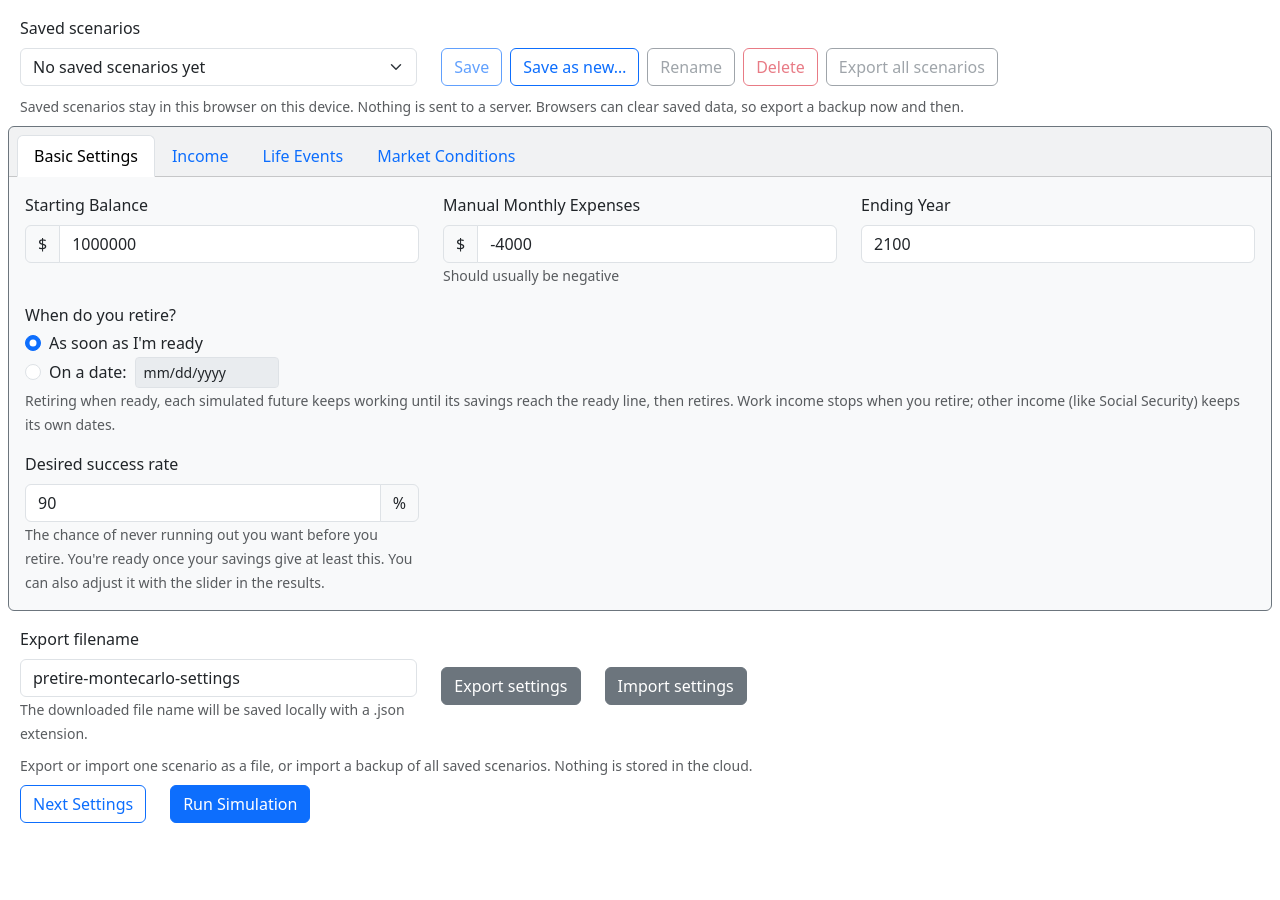
Test: MonteCarloForm saved scenarios › a save the browser refuses shows an error and leaves the list as it was
Click the button "Save as new…" at (575, 67), box [510,48,639,86]
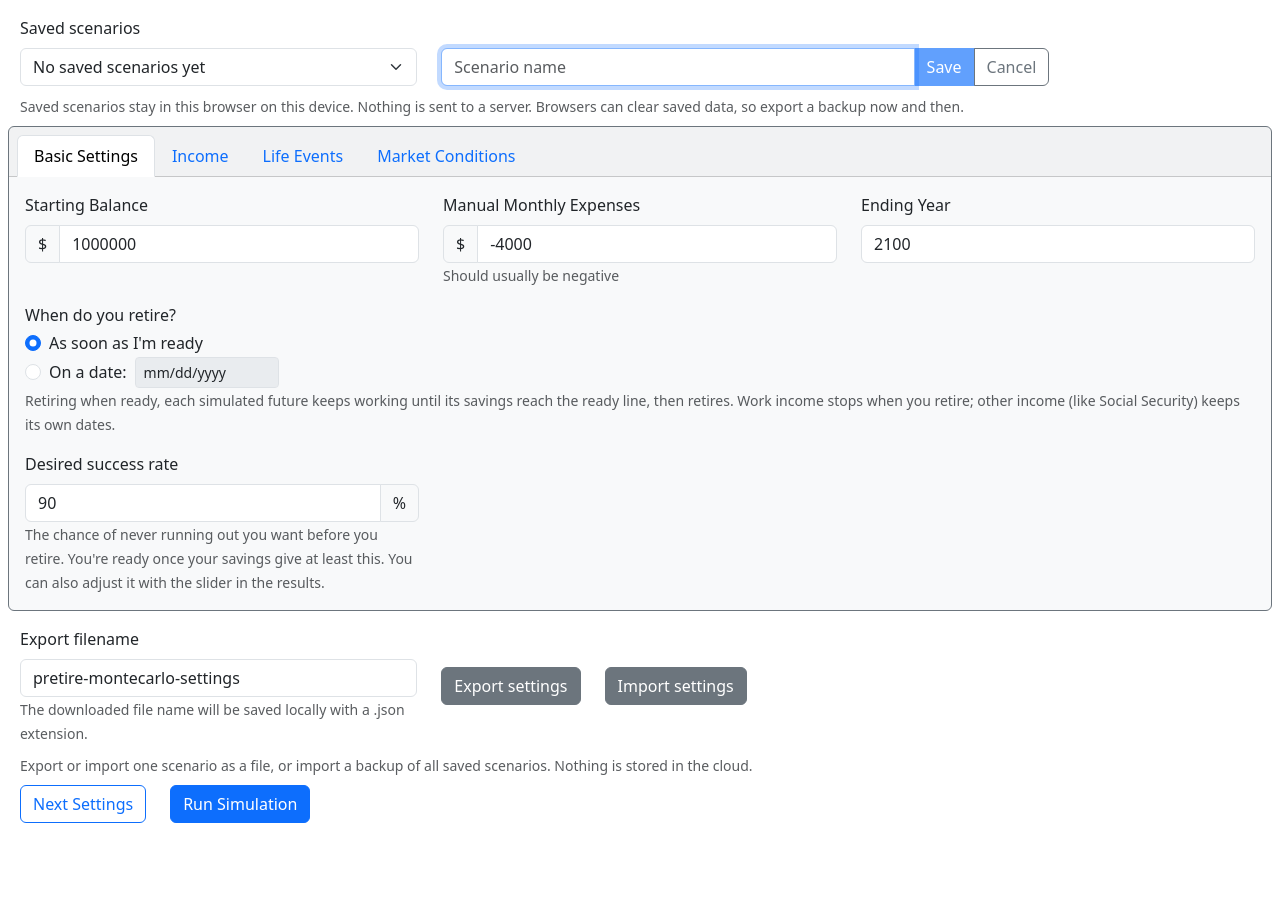
Type "Kept" into the field with placeholder "Scenario name" at (678, 67), box [441,48,915,86]
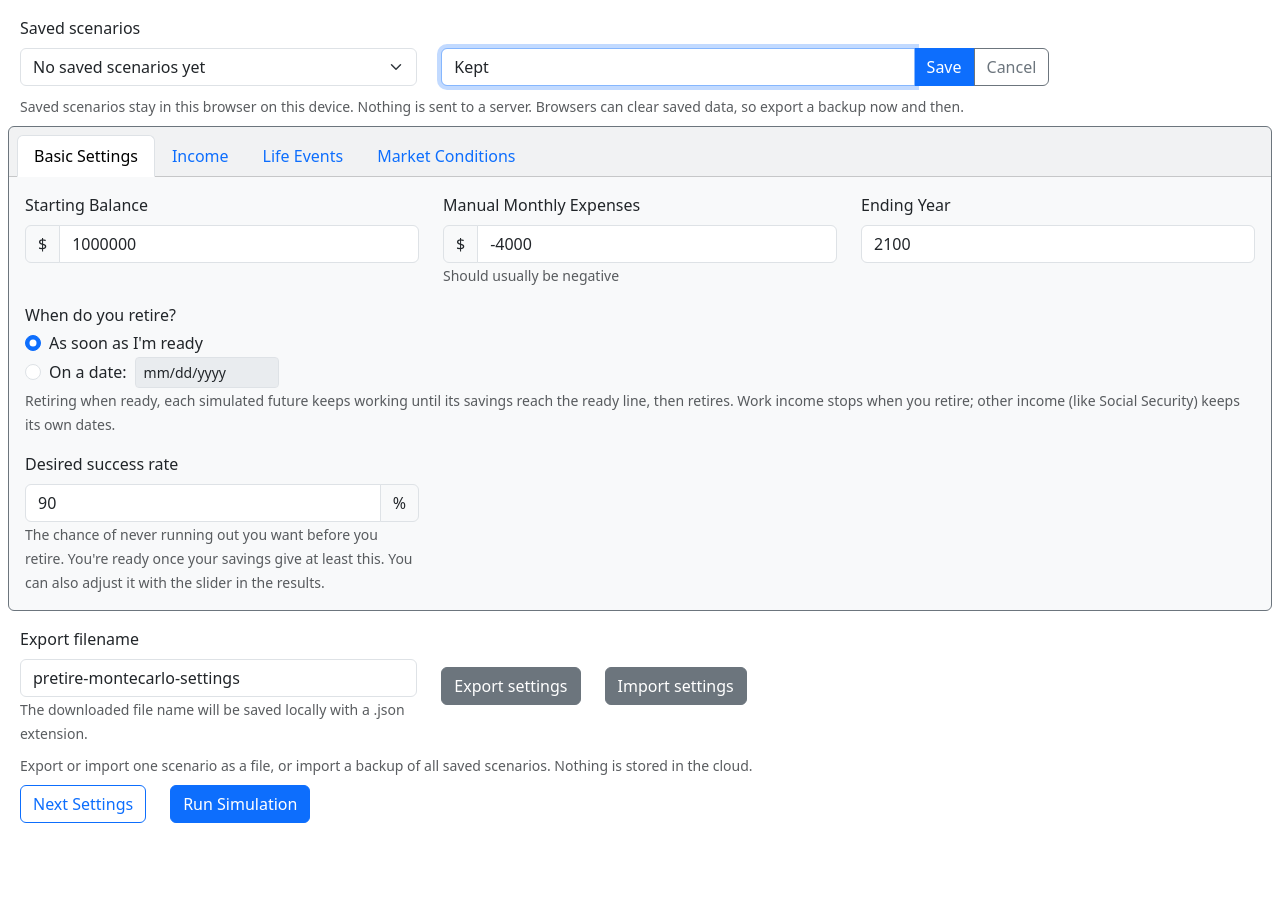
Click the button "Save" at (944, 67), box [914,48,974,86]
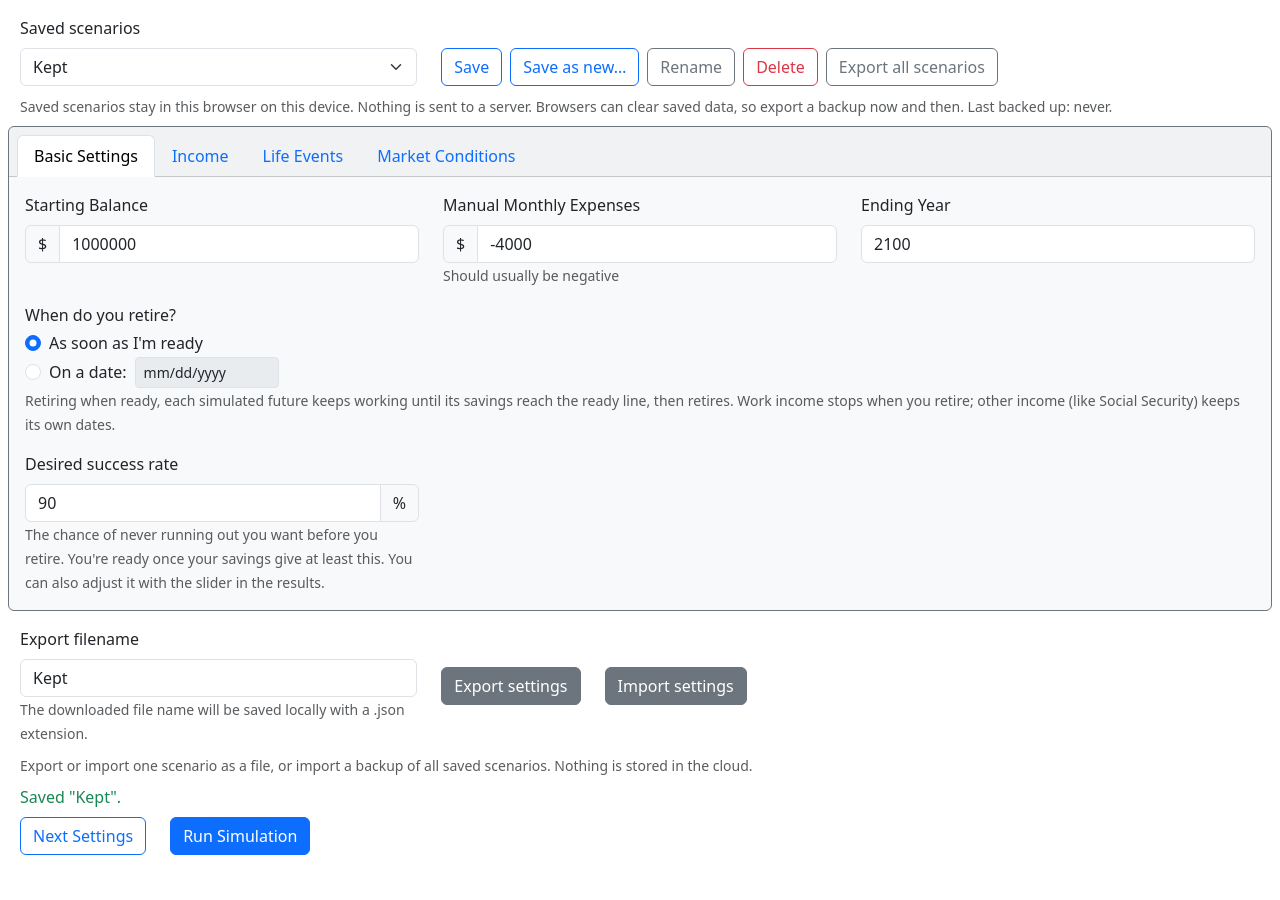
Click the button "Save as new…" at (575, 67), box [510,48,639,86]
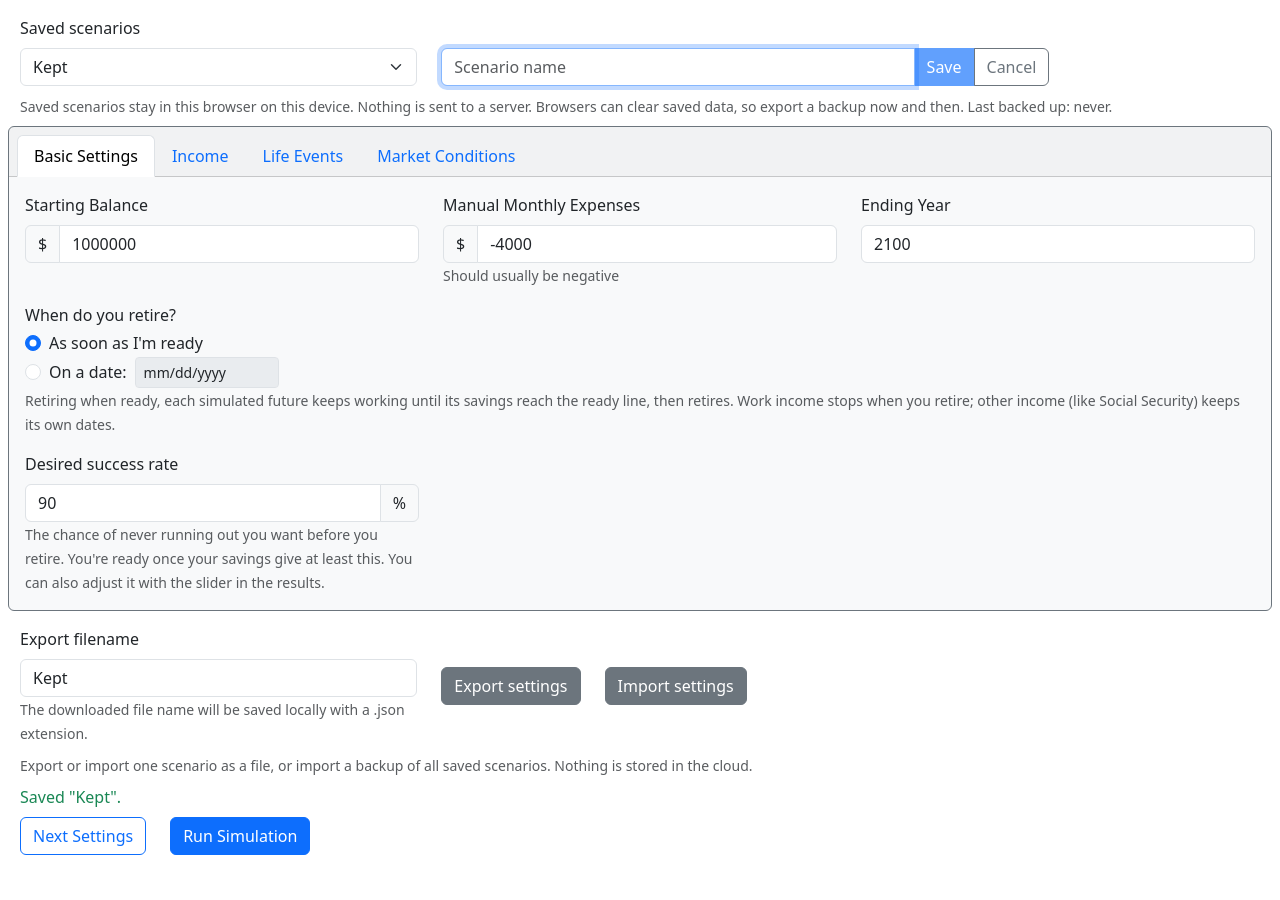
Type "Refused" into the field with placeholder "Scenario name" at (678, 67), box [441,48,915,86]
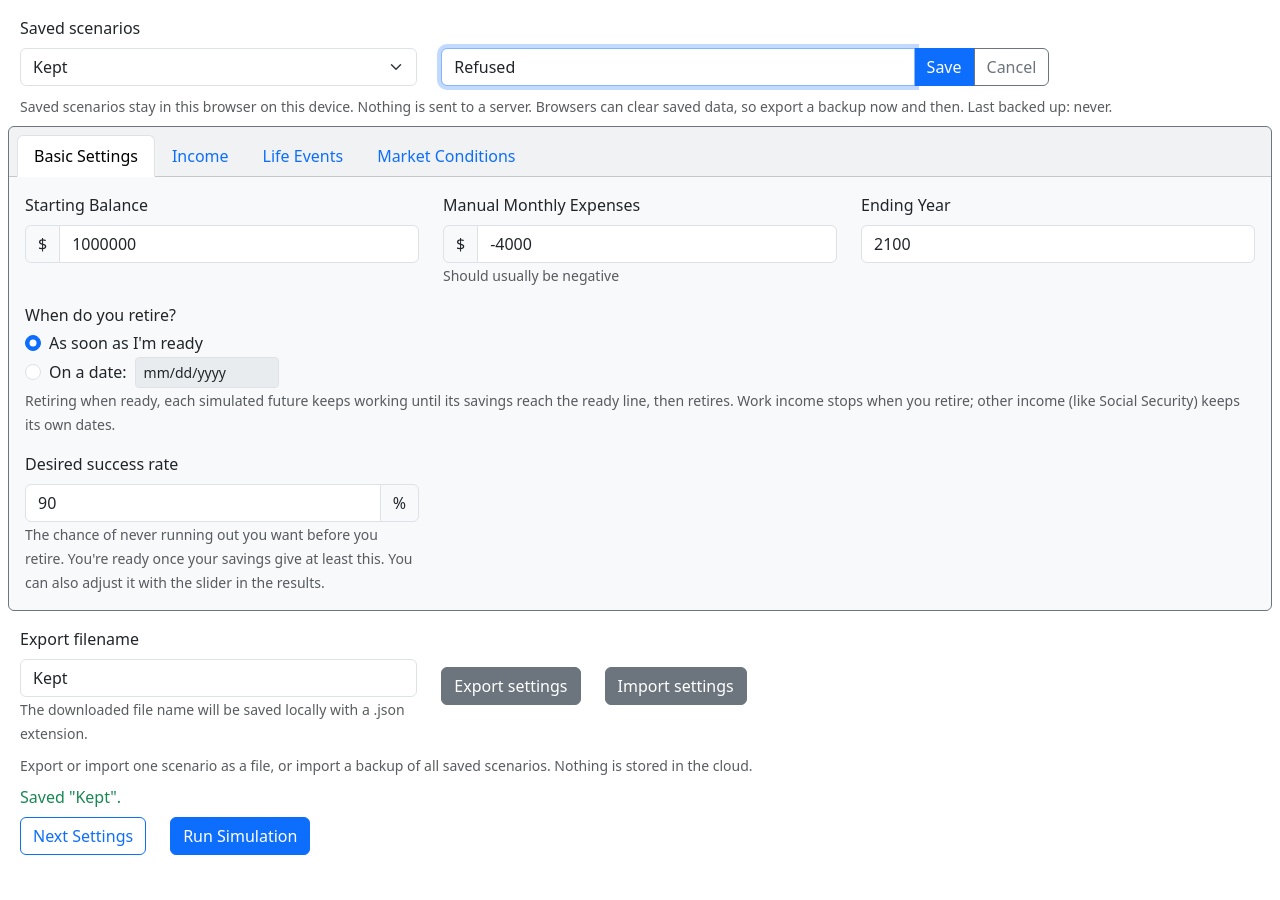
Click the button "Save" at (944, 67), box [914,48,974,86]
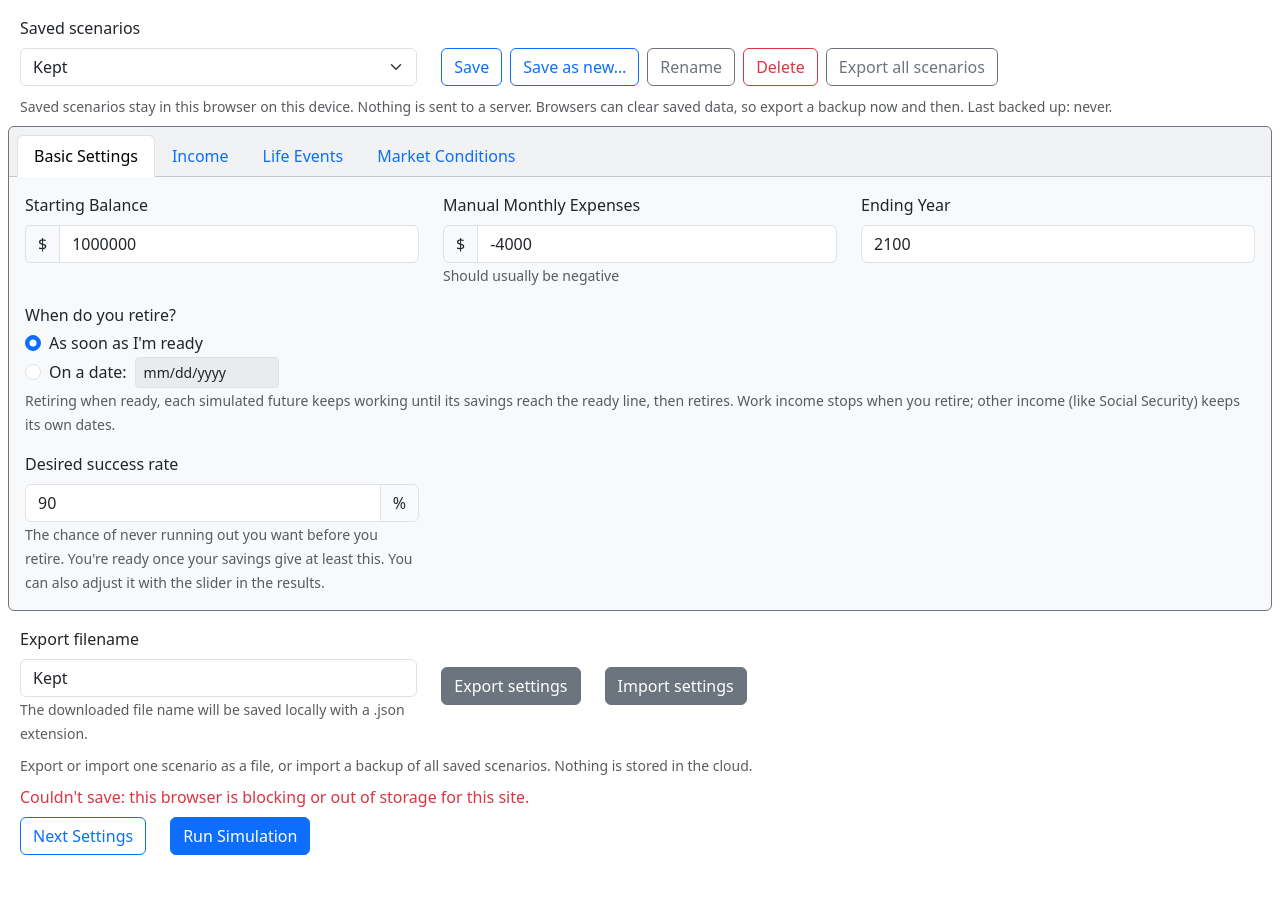
Now the text "Couldn't save: this browser is blocking or out of storage" is shown, box [20,786,529,808]
